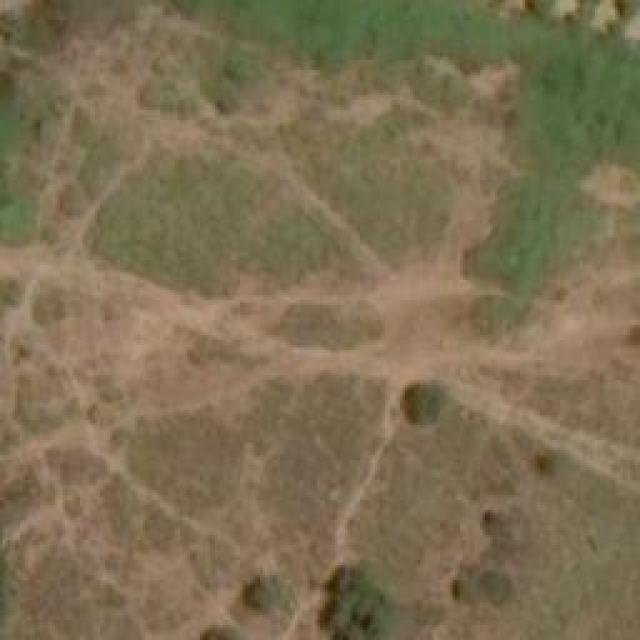Tree: (317, 567, 397, 640), (403, 383, 443, 423), (245, 575, 280, 610), (563, 8, 596, 28), (612, 0, 640, 20), (525, 0, 555, 15), (605, 20, 628, 35)
